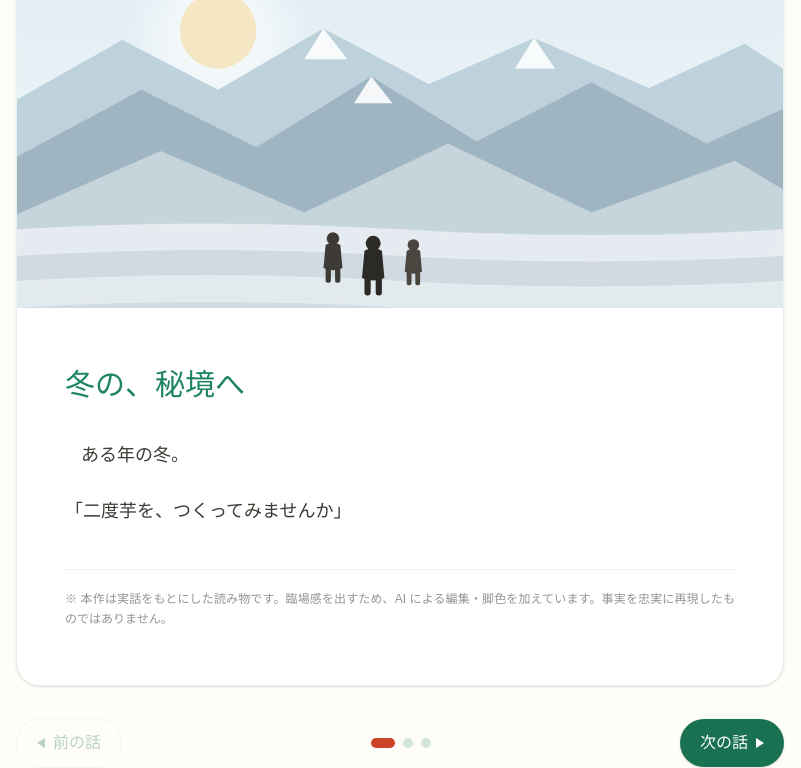
StoryReader › 章ジャンプ用ドットで任意のページへ移動できる
(page scrolled)
// 各章のドットには「kicker　title」のタイトルが付く (該当章のドットを掴む)
Click the button titled "エピローグ" at [426, 743], box [421, 738, 431, 748]
(page scrolled)
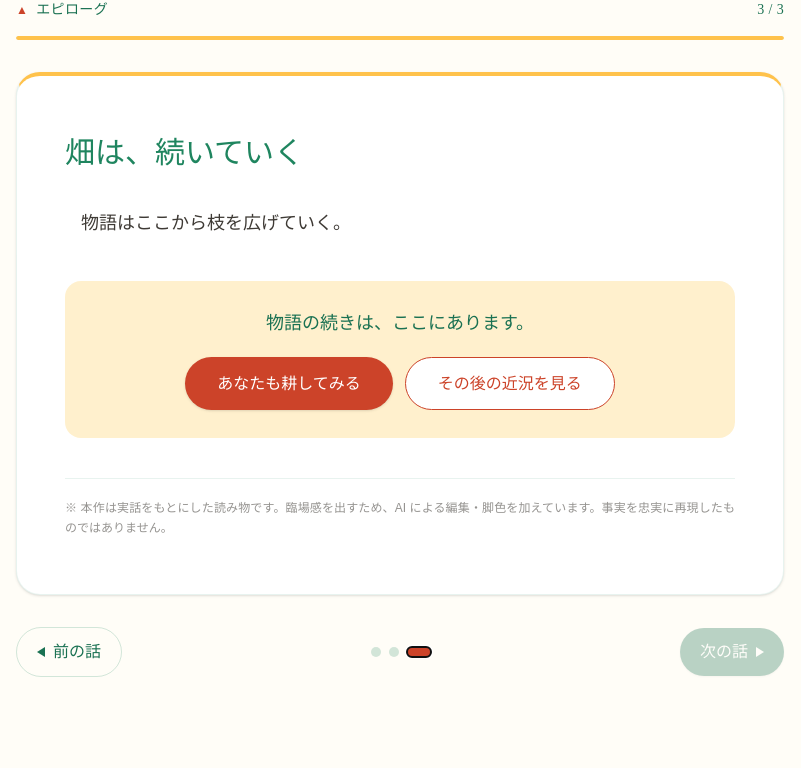
Result: the heading "畑は、続いていく" is shown at [65, 136, 304, 169]
